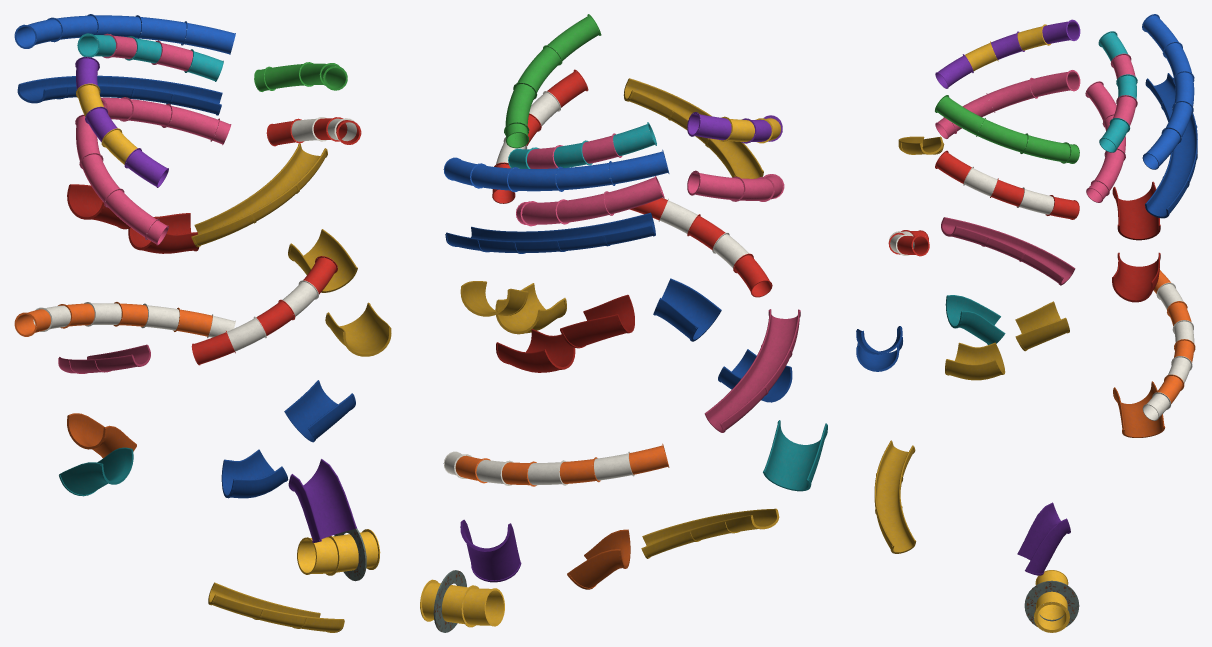
File: torre_scivoli.glb
3 views of the same model, side by side, from view 1: azimuth 30°, elevation 25°; view 2: azimuth 150°, elevation 25°; view 3: azimuth 270°, elevation 25° (orthographic). The views are drawn at different scales.
Visible parts, largest first — view 1: torre_A_canali-col, torre_scivolo_12-col, torre_scivolo_6-col, torre_scivolo_9-col, torre_scivolo_11-col, torre_scivolo_10-col, torre_scivolo_2-col, discesa_5_0, torre_scivolo_5-col, torre_tubo_inseguimento, discesa_2_1, discesa_2_0 (+9 smaller); view 2: torre_A_canali-col, torre_scivolo_12-col, torre_scivolo_6-col, torre_scivolo_1-col, torre_scivolo_9-col, torre_scivolo_5-col, torre_scivolo_10-col, torre_tubo_inseguimento, discesa_3_0, discesa_2_0, discesa_0_0, torre_scivolo_7-col (+9 smaller); view 3: torre_A_canali-col, torre_scivolo_6-col, torre_scivolo_12-col, torre_scivolo_11-col, torre_scivolo_1-col, torre_scivolo_7-col, torre_scivolo_2-col, torre_scivolo_10-col, discesa_5_0, torre_scivolo_5-col, discesa_3_0, discesa_1_1 (+8 smaller).
Part boxes in pixels (x1,y1,x2,y2): torre_A_canali-col: [17, 75, 344, 632]; torre_scivolo_12-col: [14, 302, 235, 338]; torre_scivolo_6-col: [14, 14, 235, 54]; torre_scivolo_9-col: [191, 256, 337, 365]; torre_scivolo_11-col: [75, 56, 168, 187]; torre_scivolo_10-col: [77, 33, 223, 81]; torre_scivolo_2-col: [75, 114, 168, 245]; discesa_5_0: [288, 459, 356, 542]; torre_scivolo_5-col: [100, 97, 231, 145]; torre_tubo_inseguimento: [297, 529, 380, 575]; discesa_2_1: [221, 449, 288, 498]; discesa_2_0: [284, 380, 355, 442]; torre_A_canali-col: [445, 78, 800, 558]; torre_scivolo_12-col: [443, 443, 669, 486]; torre_scivolo_6-col: [443, 149, 669, 192]; torre_scivolo_1-col: [504, 14, 601, 148]; torre_scivolo_9-col: [630, 198, 772, 297]; torre_scivolo_5-col: [516, 176, 664, 226]; torre_scivolo_10-col: [508, 122, 656, 168]; torre_tubo_inseguimento: [420, 579, 504, 627]; discesa_3_0: [763, 420, 827, 491]; discesa_2_0: [653, 278, 721, 341]; discesa_0_0: [560, 294, 634, 348]; torre_scivolo_7-col: [492, 69, 588, 203]; torre_A_canali-col: [874, 73, 1197, 553]; torre_scivolo_6-col: [1142, 14, 1194, 169]; torre_scivolo_12-col: [1142, 269, 1195, 420]; torre_scivolo_11-col: [935, 19, 1080, 88]; torre_scivolo_1-col: [935, 95, 1079, 163]; torre_scivolo_7-col: [935, 150, 1079, 219]; torre_scivolo_2-col: [935, 70, 1080, 138]; torre_scivolo_10-col: [1098, 31, 1137, 152]; discesa_5_0: [1017, 502, 1070, 575]; torre_scivolo_5-col: [1085, 81, 1125, 202]; discesa_3_0: [945, 295, 1005, 344]; discesa_1_1: [945, 342, 1005, 380].
Size of the model in its own units: 18.68 by 30.05 by 18.5.
Materials: 11 (11 with a texture image).
